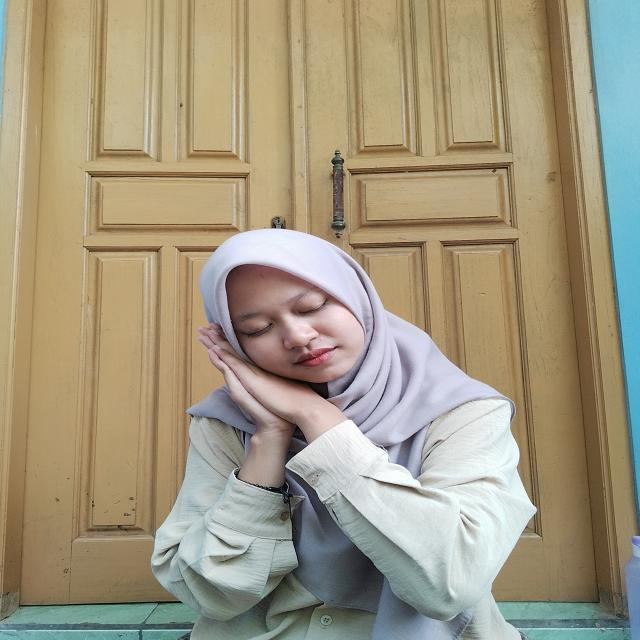tidur: (181, 323, 354, 487)
